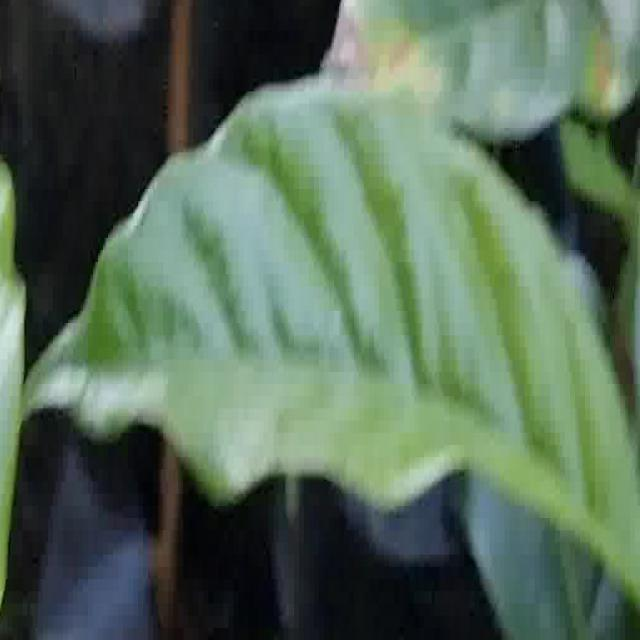leaves: (11, 19, 640, 610)
